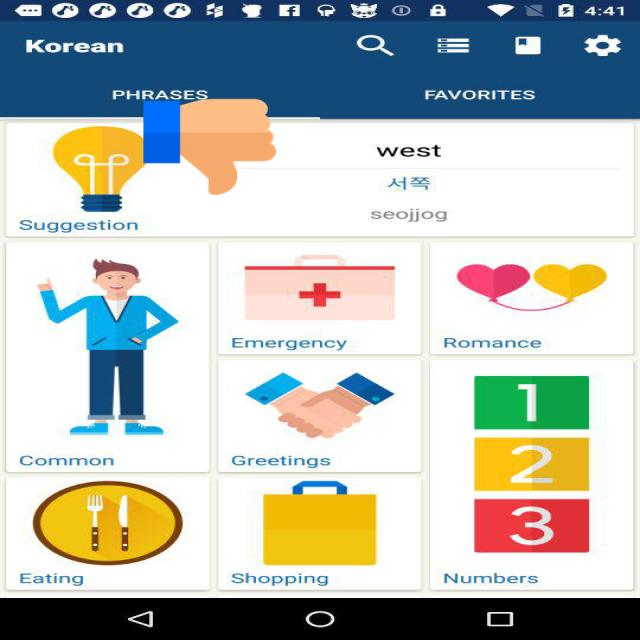obstruction: (144, 97, 276, 197)
